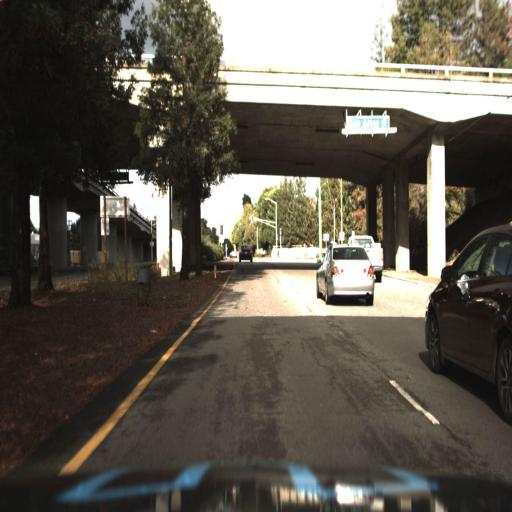car: (414, 223, 510, 393), (310, 241, 383, 305), (351, 231, 386, 276), (236, 241, 257, 262)
